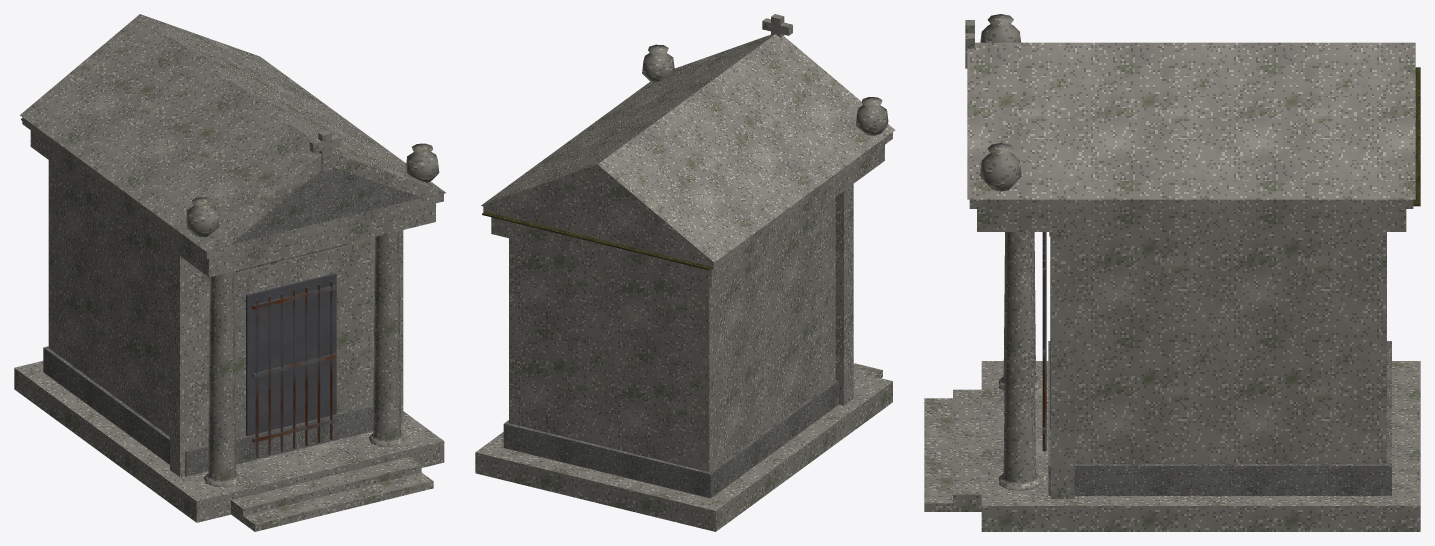
The model's file is mausoleum.glb.
The picture shows the model from 3 angles, left to right: view 1: azimuth 30°, elevation 25°; view 2: azimuth 150°, elevation 25°; view 3: azimuth 270°, elevation 25°; orthographic projection. The views are drawn at different scales.
Parts seen in each view (by area): view 1: detail, shell-col; view 2: shell-col, detail; view 3: detail, shell-col.
Boxes of the visible parts, x1,y1,x2,y2 form: detail: (20, 14, 445, 487); shell-col: (14, 160, 444, 531); shell-col: (475, 197, 892, 531); detail: (481, 14, 895, 498); detail: (965, 14, 1420, 498); shell-col: (924, 232, 1420, 531).
Size of the model in its own units: 3.64 by 5.05 by 5.2.
6 materials, 6 textured.
